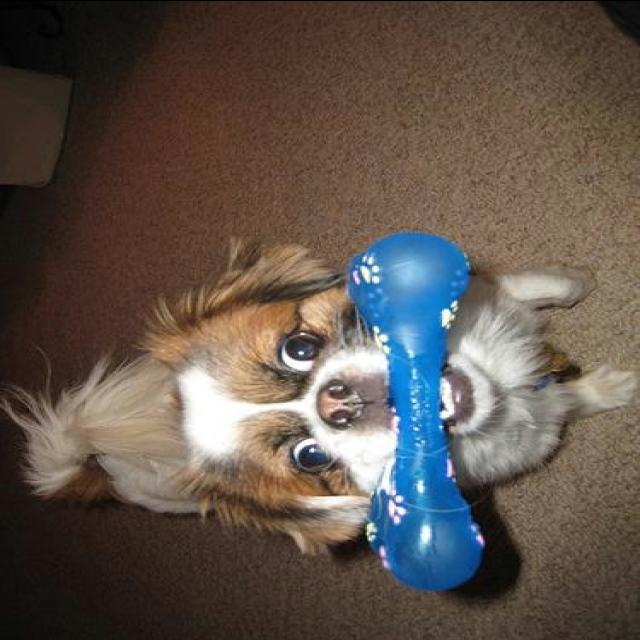pekinese: (11, 233, 638, 587)
